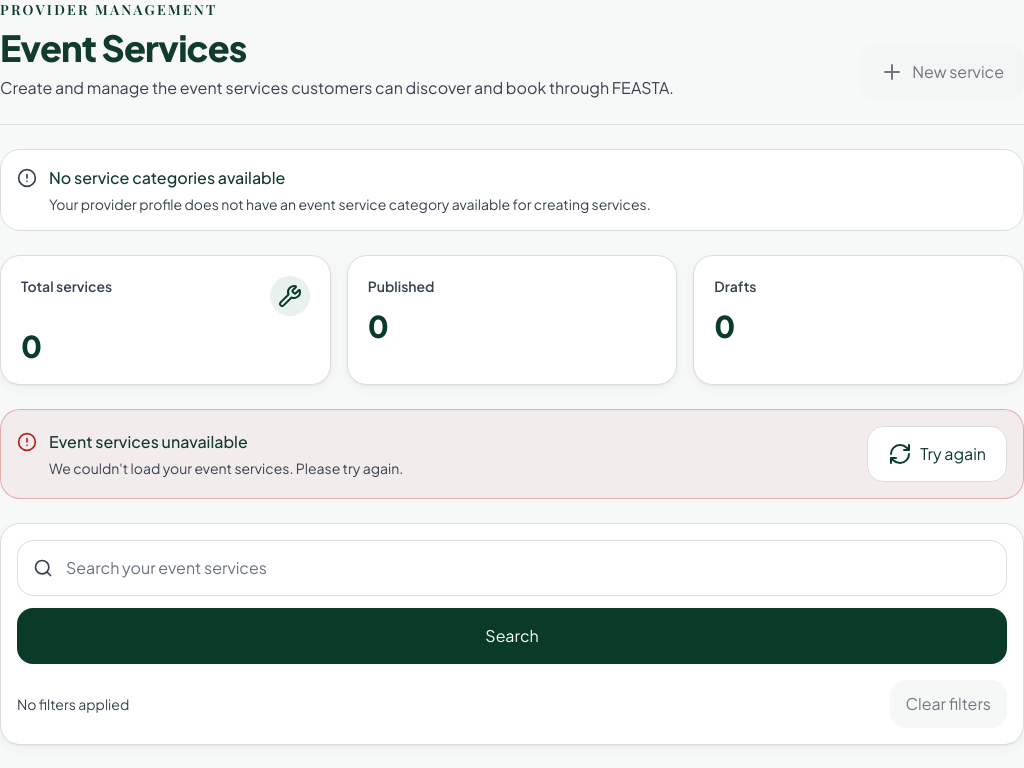
Test: services distinguish failed initial reads from empty success and retry
Check: the text "Event services unavailable" is shown, box [49,431,248,452]
Check: the text "No event services yet" is not shown
Click the button "Try again".
click(937, 454)  # box [867,426,1007,482]
(page scrolled)
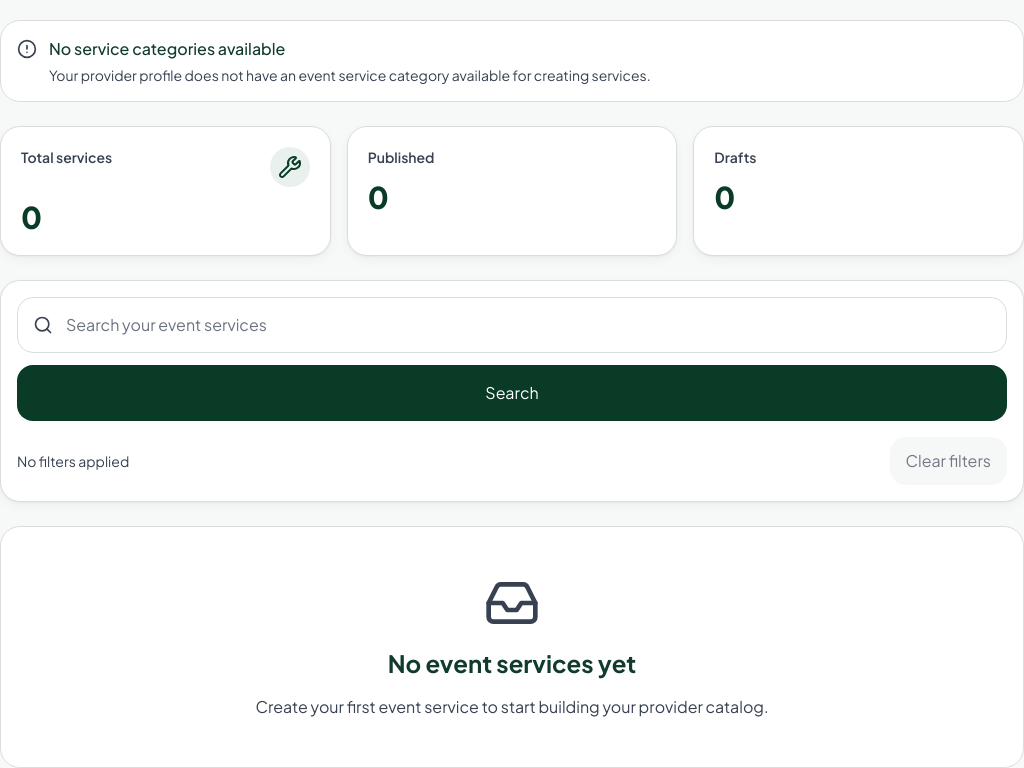
Check: the heading "No event services yet" is shown, box [388,647,636,679]
